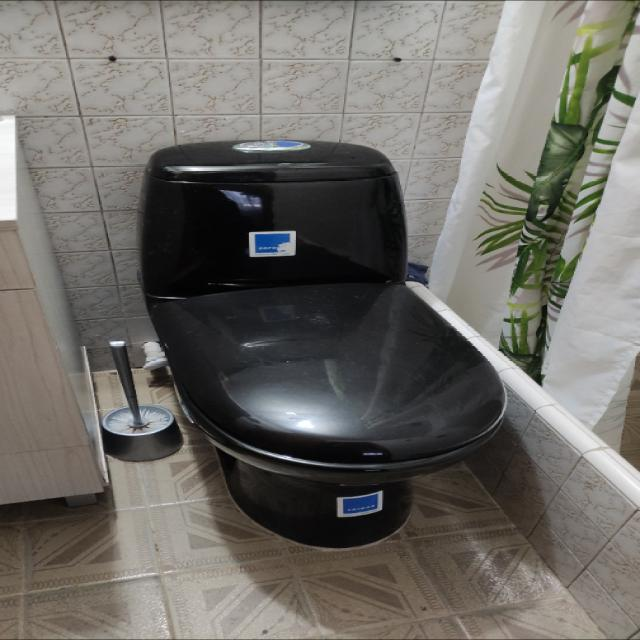toilet: (138, 138, 508, 550)
